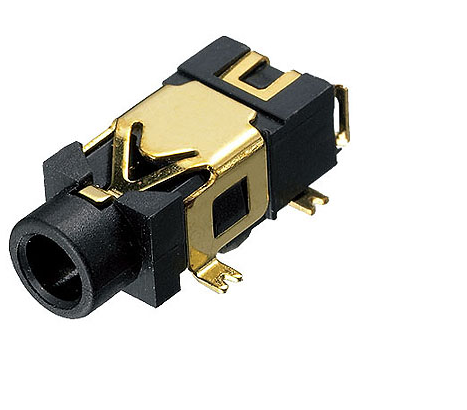aud: (6, 36, 353, 317)
